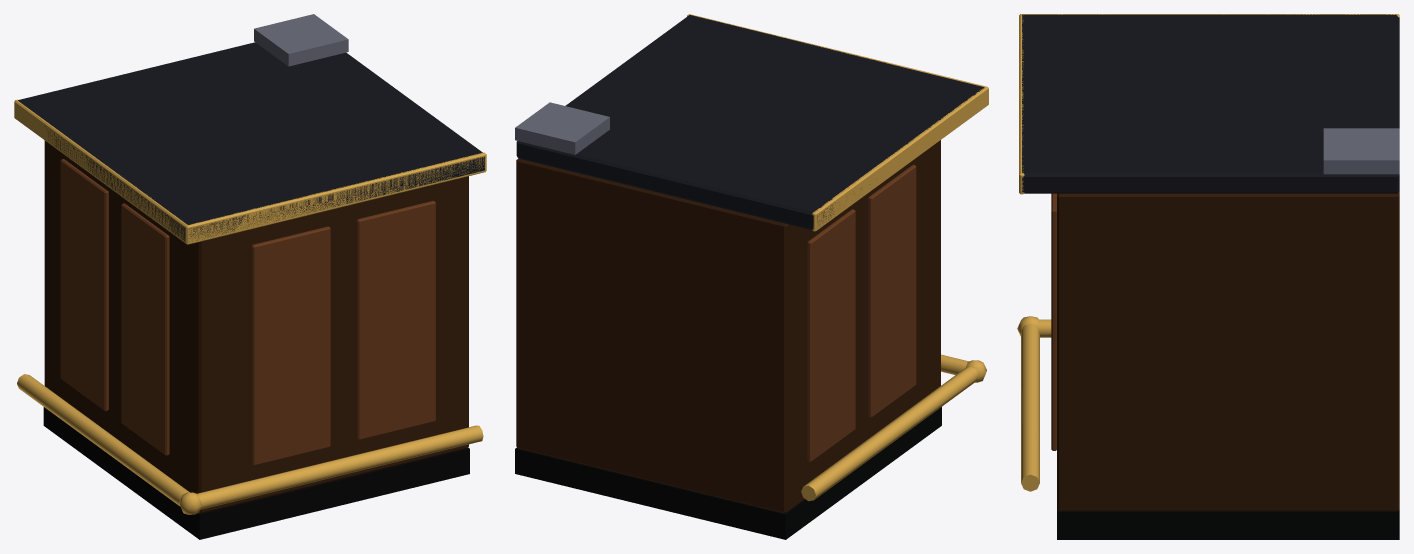
The model's file is bar_corner.glb.
3 views of the same model, side by side, from view 1: azimuth 30°, elevation 25°; view 2: azimuth 150°, elevation 25°; view 3: azimuth 270°, elevation 25° (orthographic). The views are drawn at different scales.
Parts seen in each view (by area): view 1: bar_corner; view 2: bar_corner; view 3: bar_corner.
Part boxes in pixels (x1,y1,x2,y2): bar_corner: (14,14,486,539); bar_corner: (515,14,988,539); bar_corner: (1017,14,1399,539).
Bounding box in the file's own units: 1.01 × 1.1 × 1.01.
